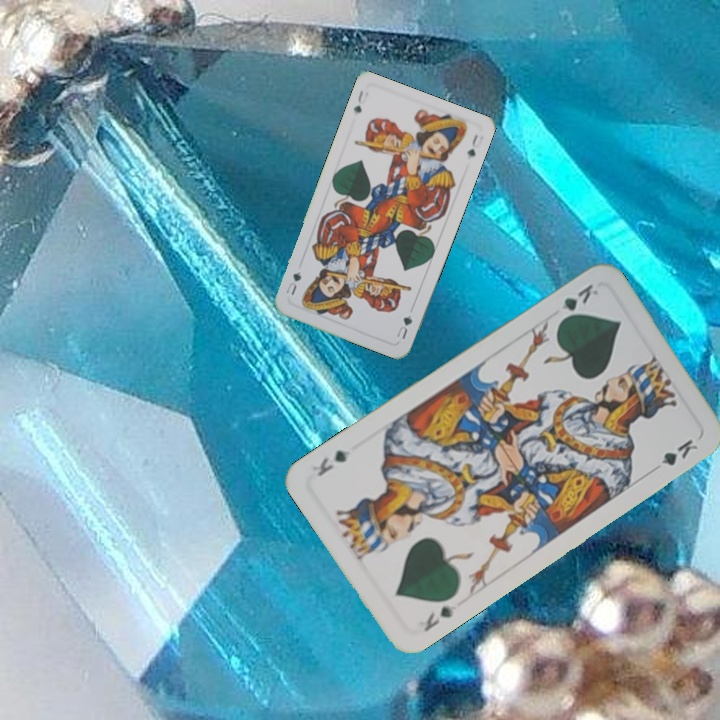GK: (554, 280, 601, 325), (419, 601, 457, 635)
GU: (391, 311, 415, 342), (349, 85, 371, 116)
